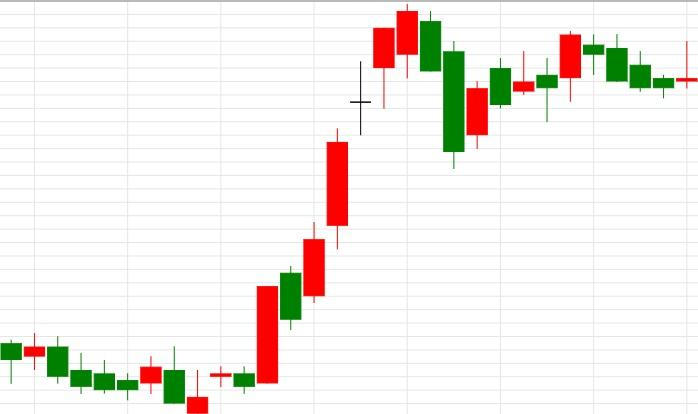hanging_man_fall: (303, 27, 395, 303)
